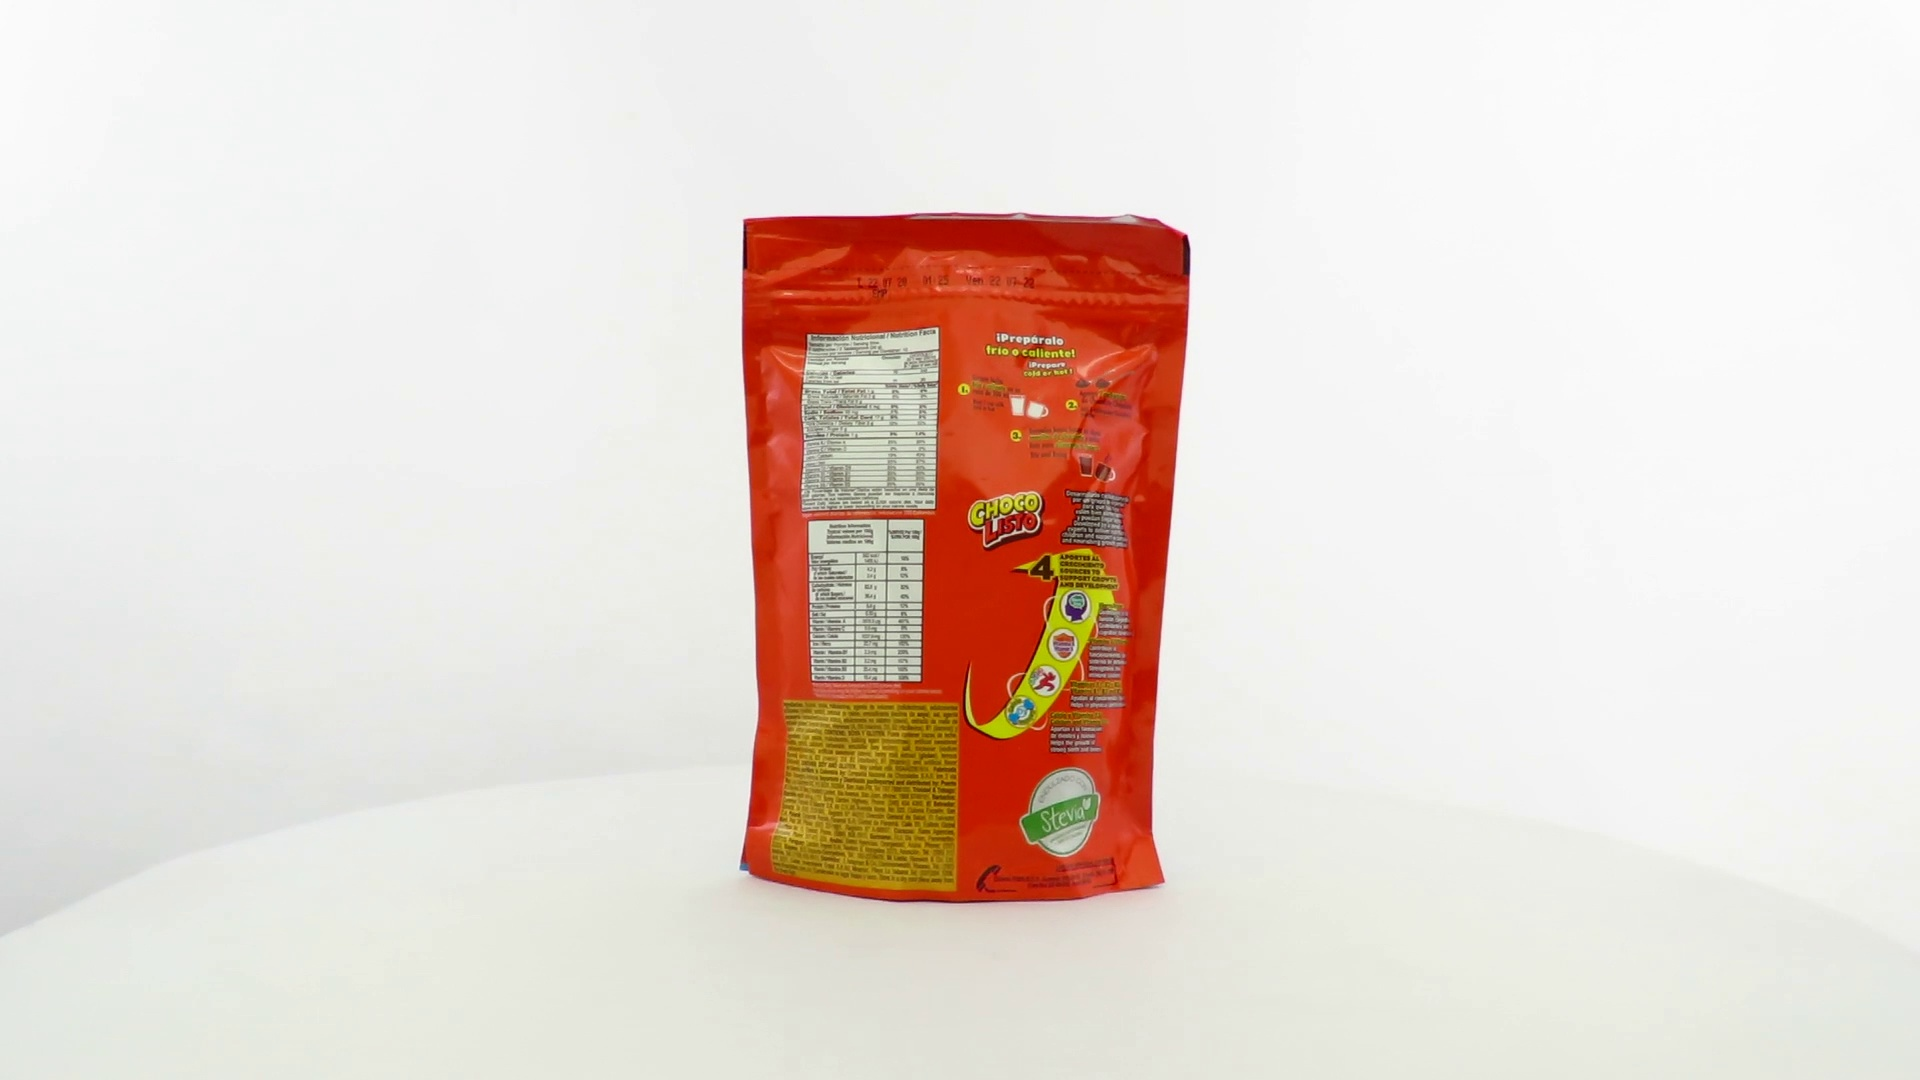COL0170104DYP20000: (735, 207, 1197, 910)
